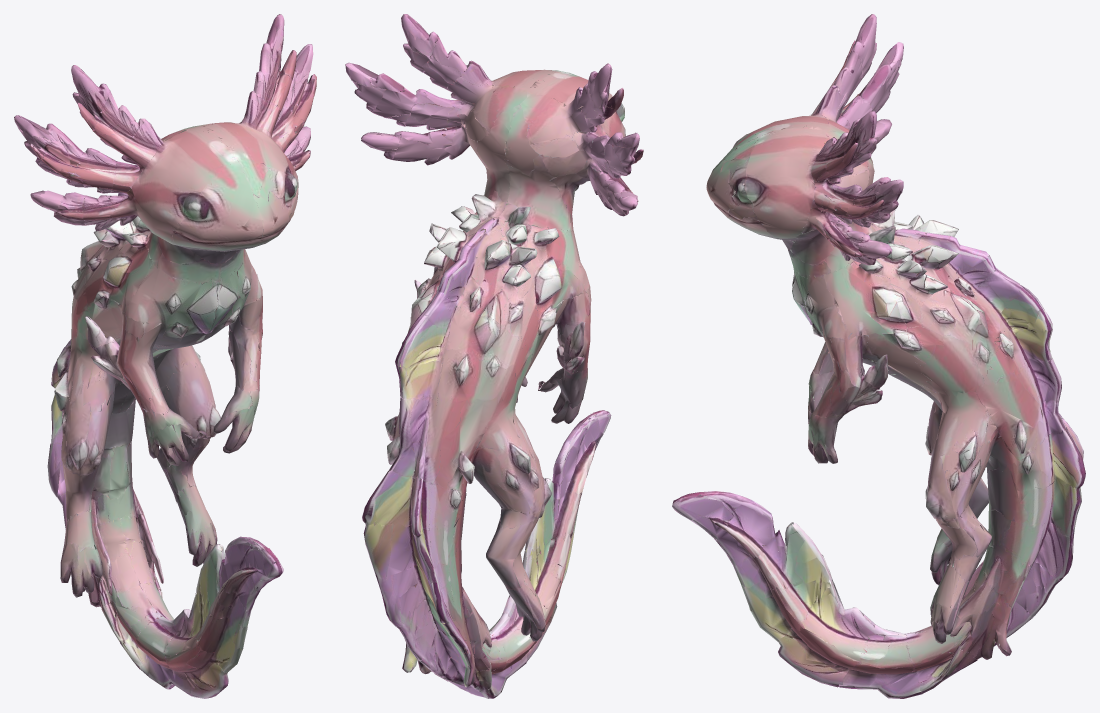
3 views of the same model, side by side, from view 1: azimuth 30°, elevation 25°; view 2: azimuth 150°, elevation 25°; view 3: azimuth 270°, elevation 25° (orthographic). The views are drawn at different scales.
Parts seen in each view (by area): view 1: Mesh_0; view 2: Mesh_0; view 3: Mesh_0.
Boxes of the visible parts, <box> form: Mesh_0: <box>14,14,316,698</box>; Mesh_0: <box>345,14,643,698</box>; Mesh_0: <box>672,14,1085,698</box>.
Bounding box in the file's own units: 0.9023 × 1.9 × 1.12.
1 material, 1 textured.
